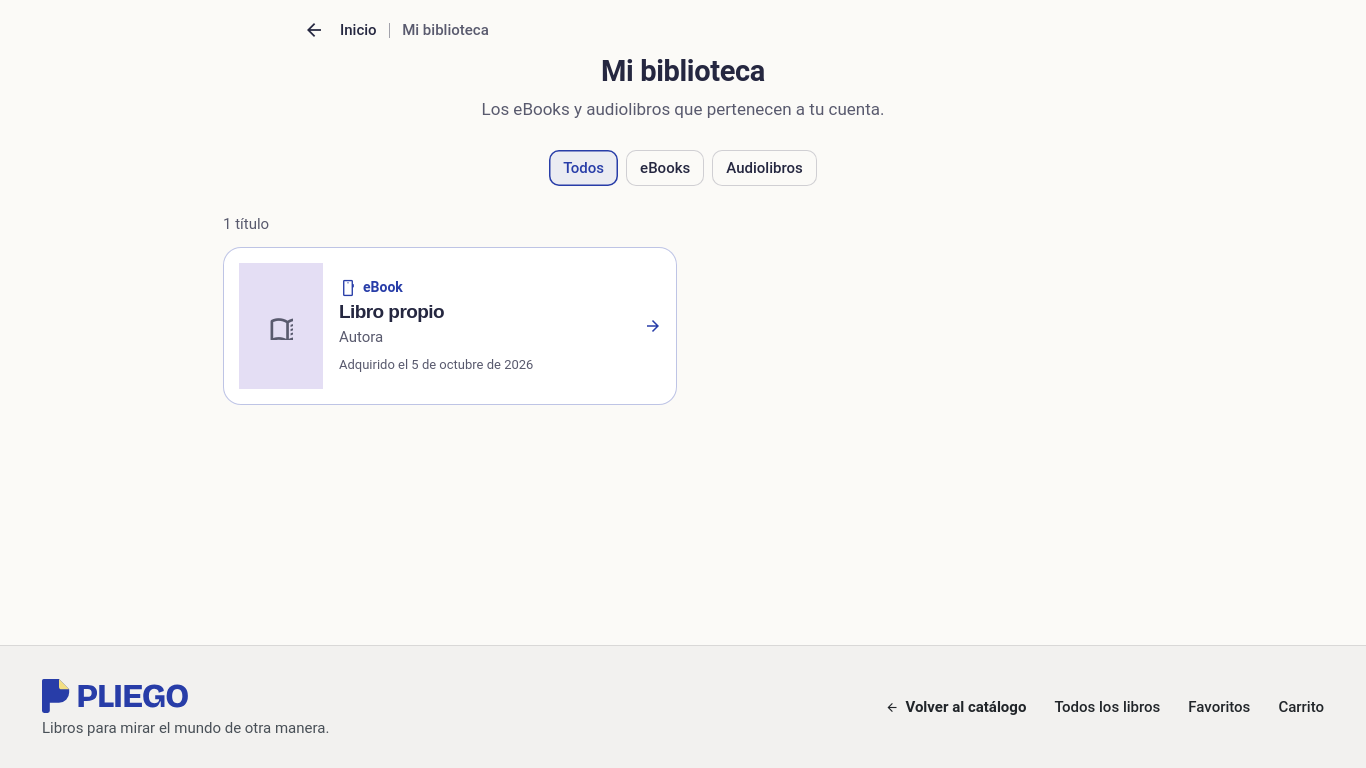
Mi biblioteca functional routes › filters server ownership and opens an acquired title's detail with real purchase actions
The width and height of the screenshot is (1366, 768).
Click the button "Audiolibros": (765, 168) [712, 150, 817, 186]
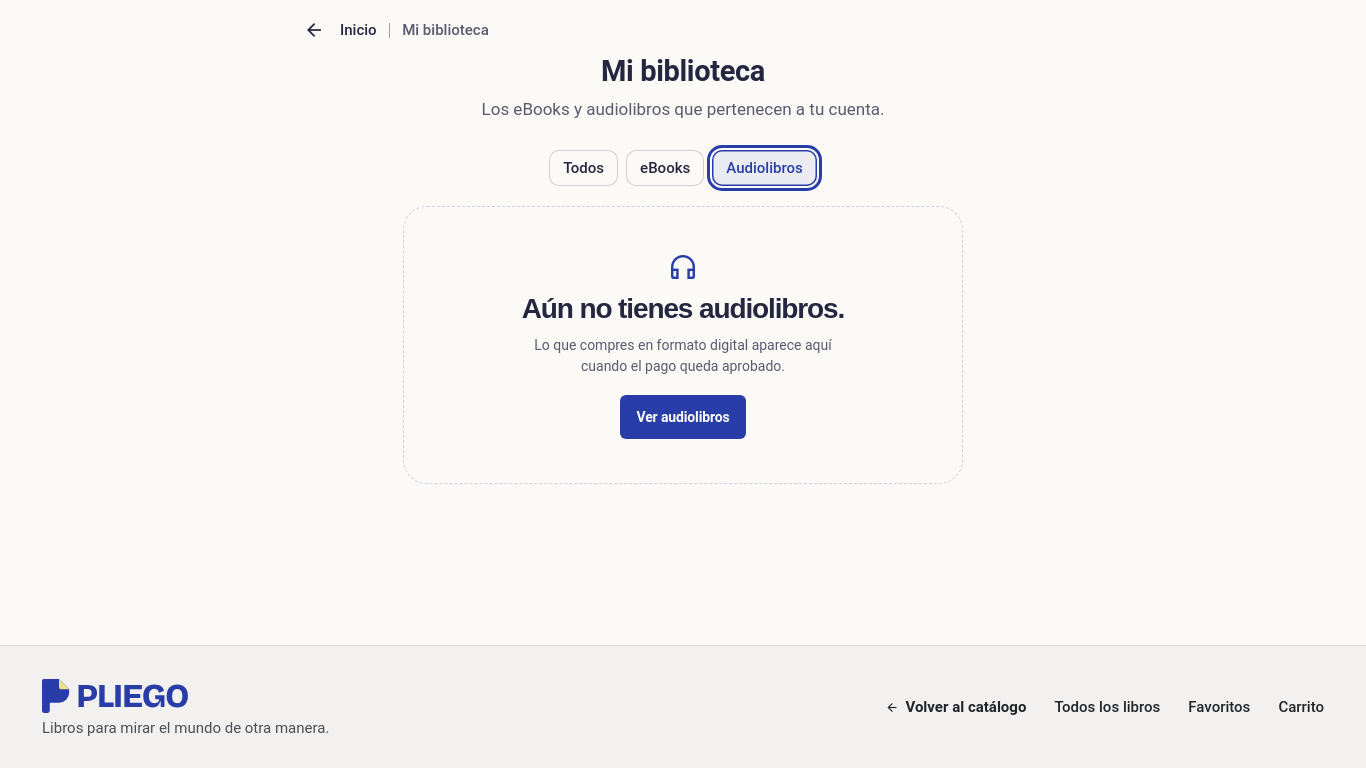
expect the heading "Aún no tienes audiolibros." is shown: met, box [522, 293, 844, 326]
Click the button "eBooks": (665, 168) [626, 150, 704, 186]
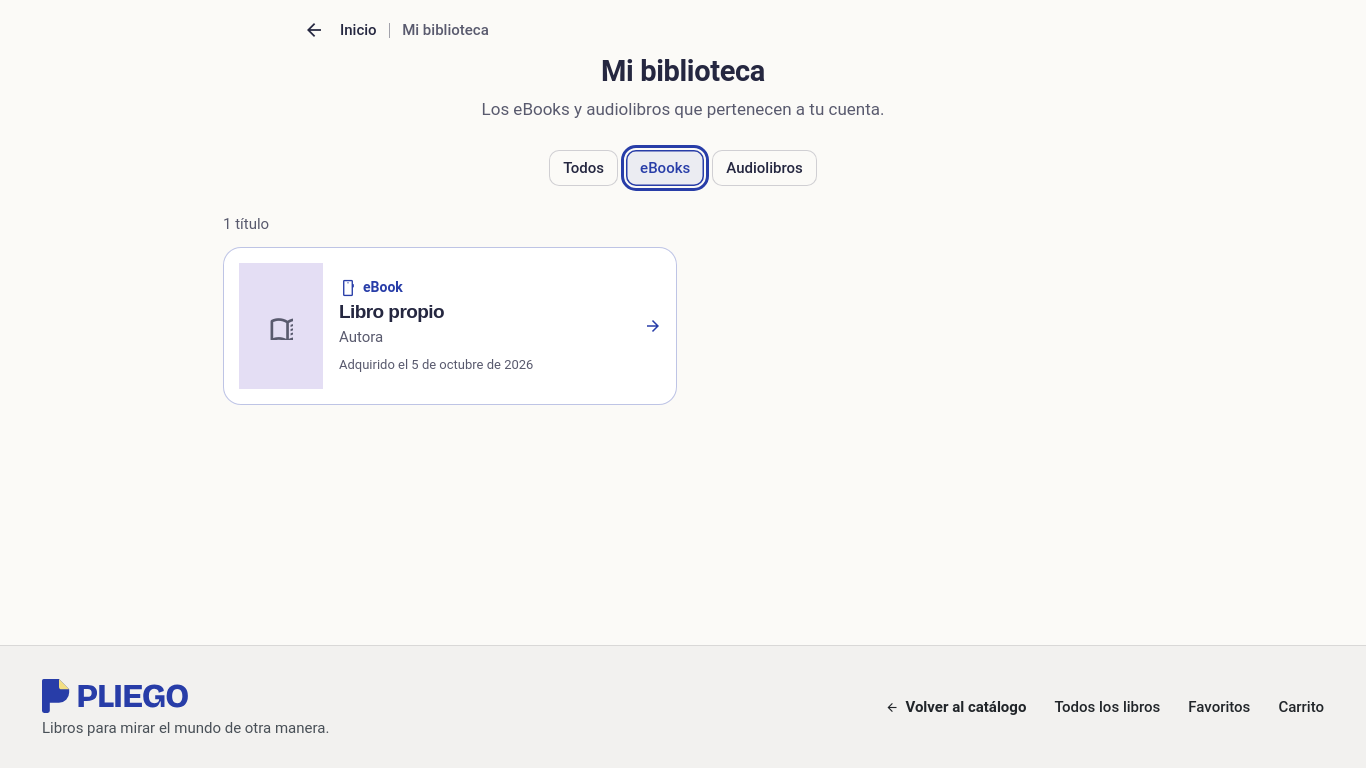
expect the text "1 título" is shown: met, box [223, 215, 269, 233]
Click the link "Libro propio": (392, 311) [339, 301, 444, 322]
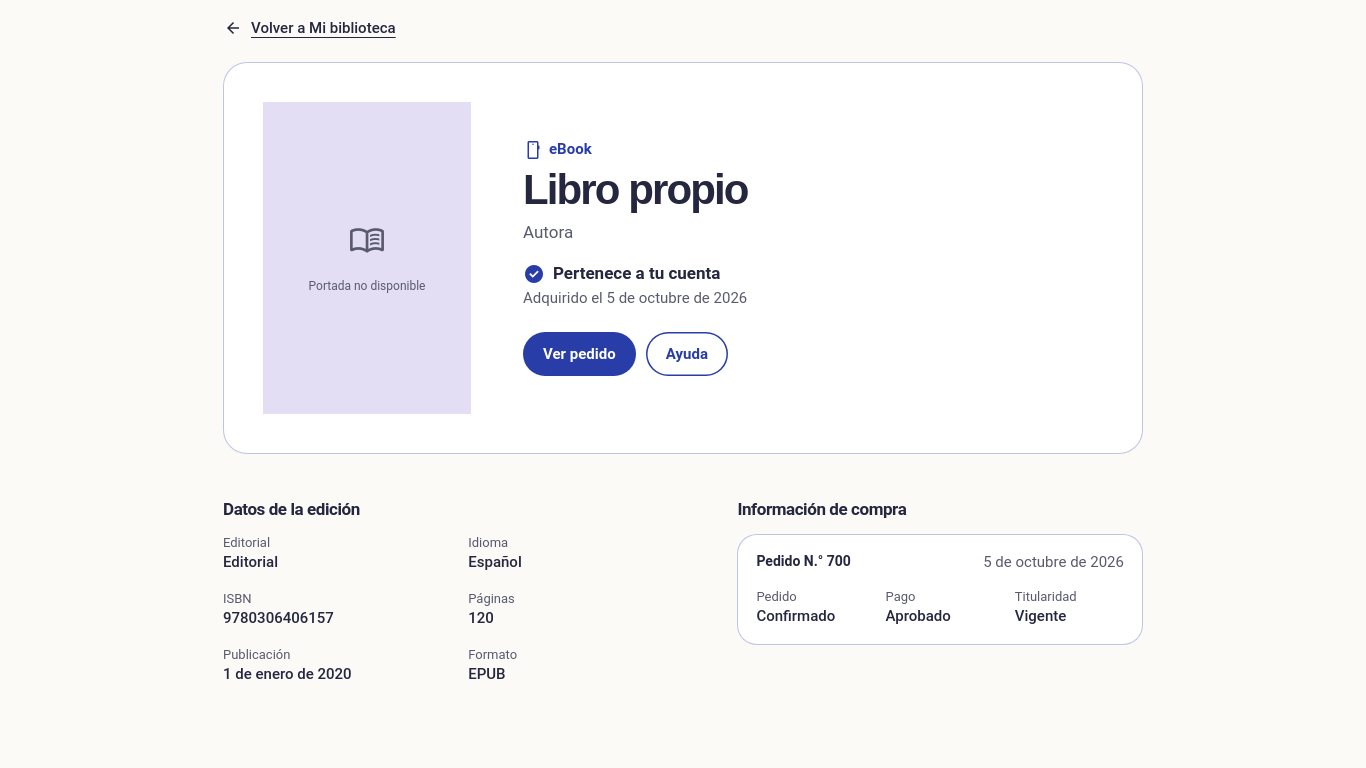
expect the heading "Libro propio" is shown: met, box [523, 168, 748, 213]
expect the text "Pertenece a tu cuenta" is shown: met, box [553, 262, 720, 285]
expect the text "EPUB" is shown: met, box [468, 665, 506, 683]
